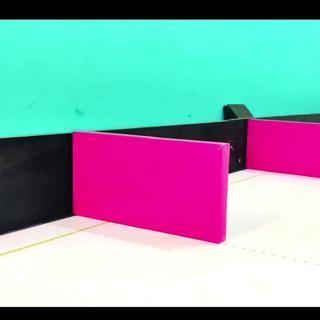xparking: (78, 148, 222, 237), (251, 127, 315, 177)
